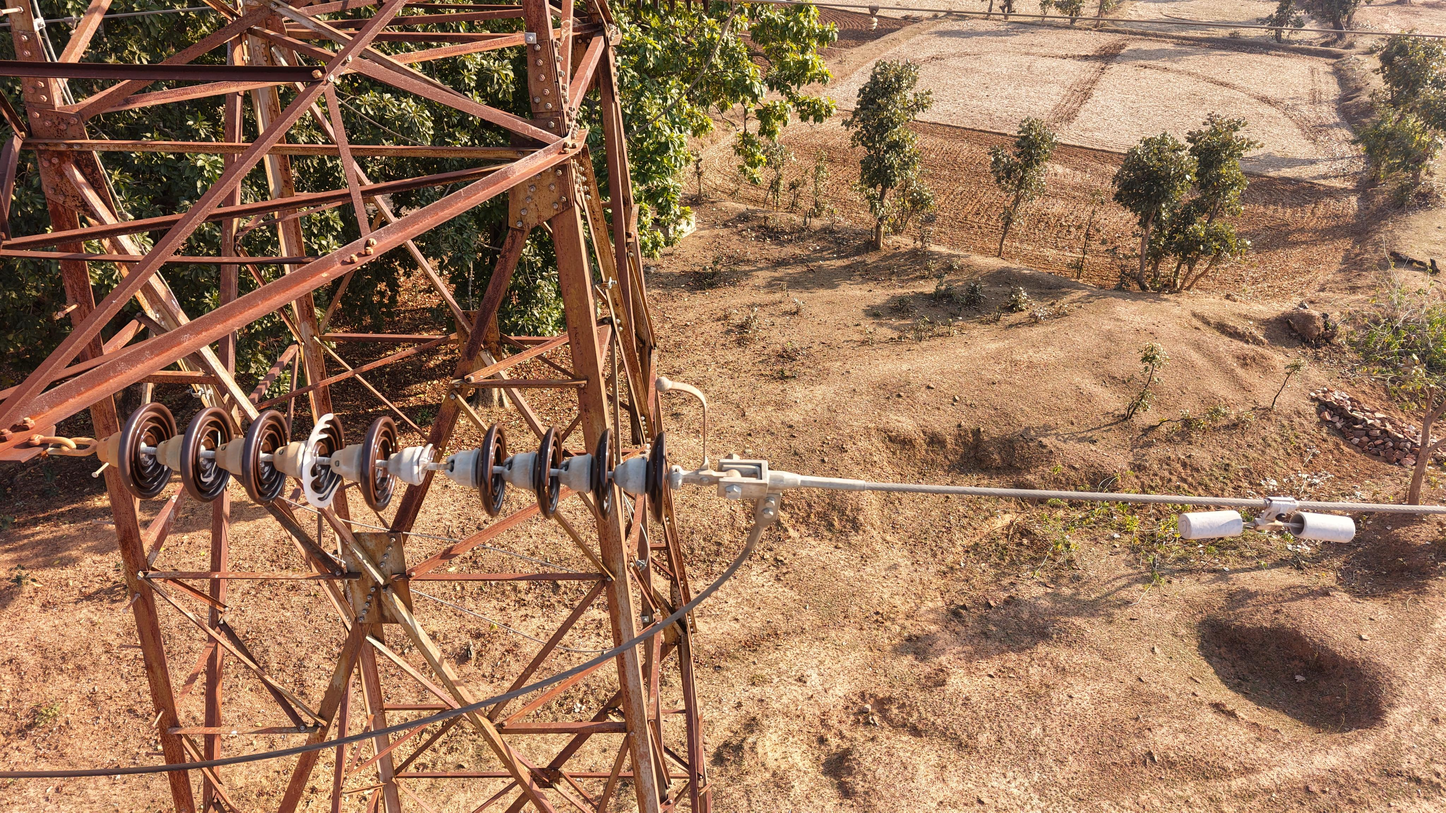broken_insulator: (298, 413, 346, 510), (420, 429, 466, 509)
